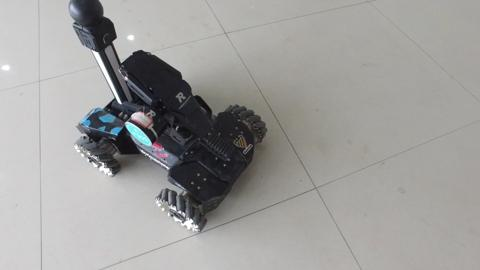chariot: (35, 14, 271, 258)
